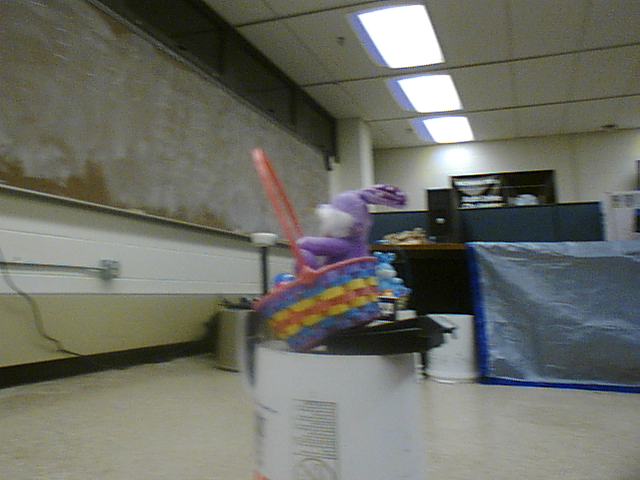bunny: (234, 139, 397, 355), (367, 237, 411, 313)
